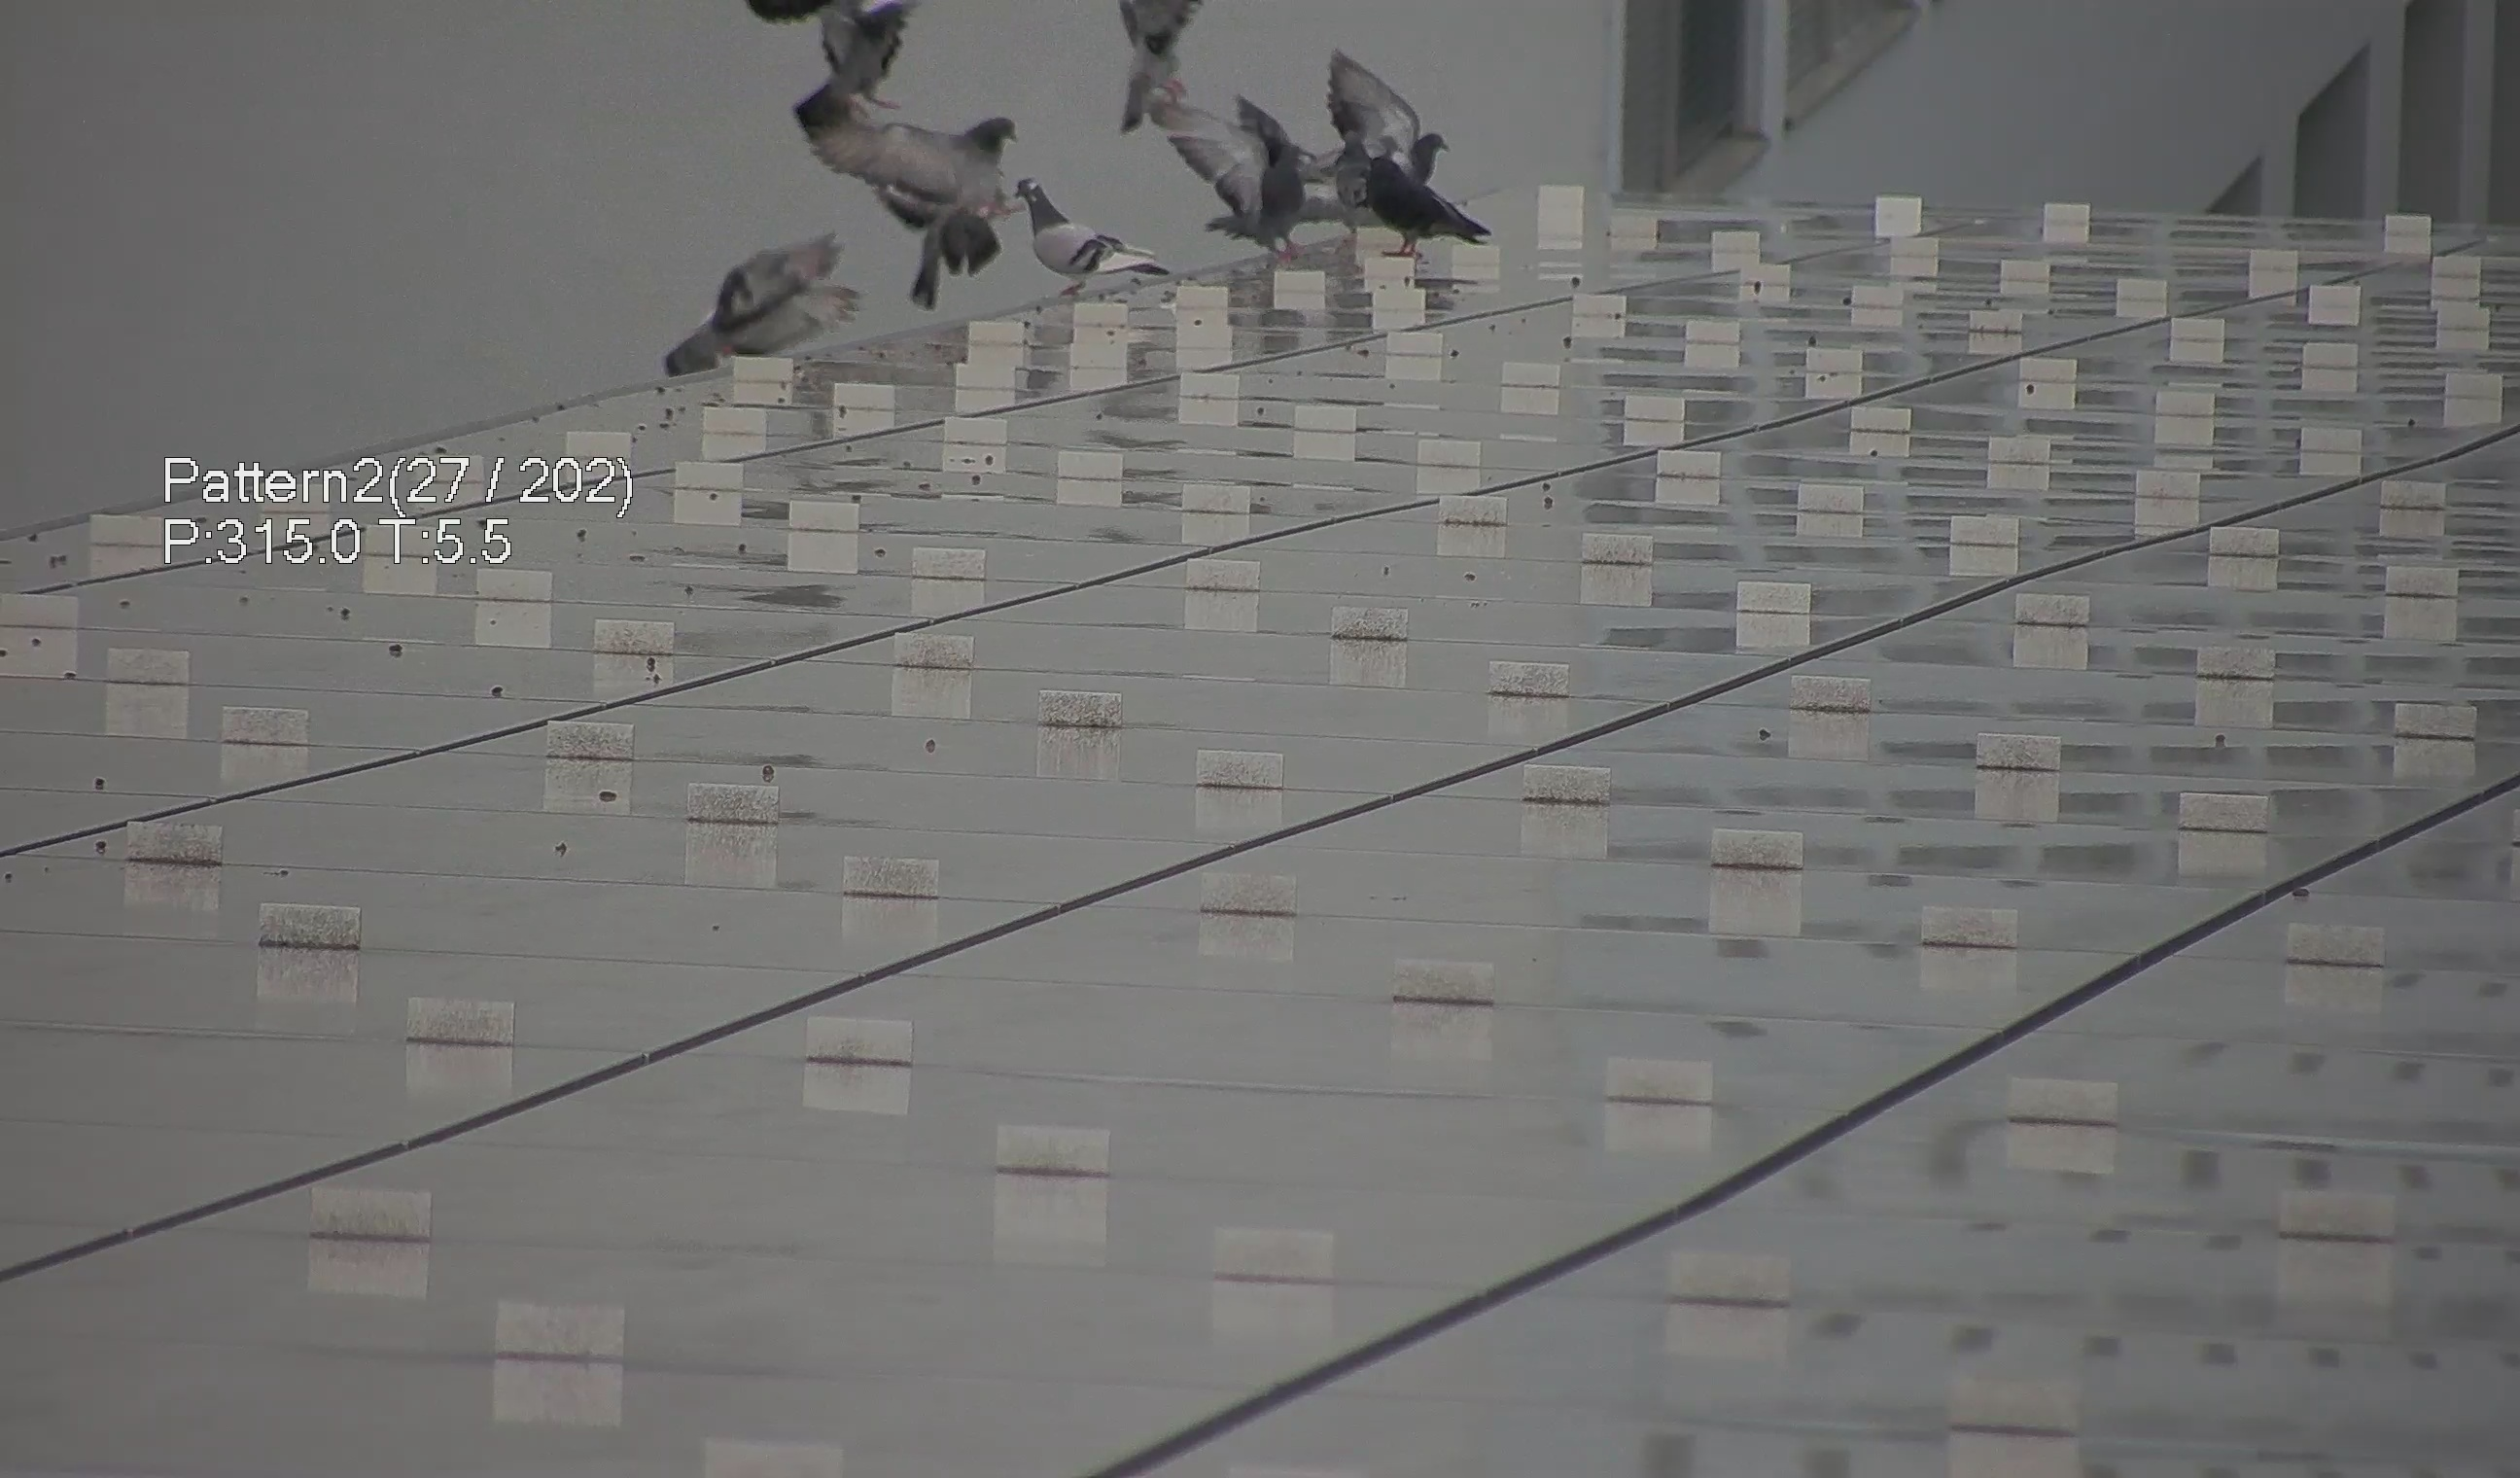Pigeon: (768, 5, 1015, 227), (656, 211, 858, 366), (1322, 60, 1486, 246), (1134, 74, 1301, 241), (1342, 120, 1493, 246), (1001, 167, 1164, 274), (1101, 2, 1206, 150)
